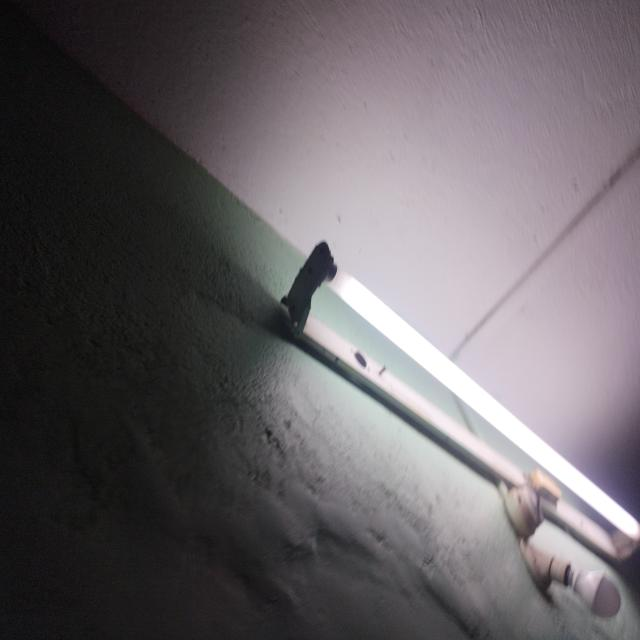tubelight_on: (276, 237, 640, 566)
